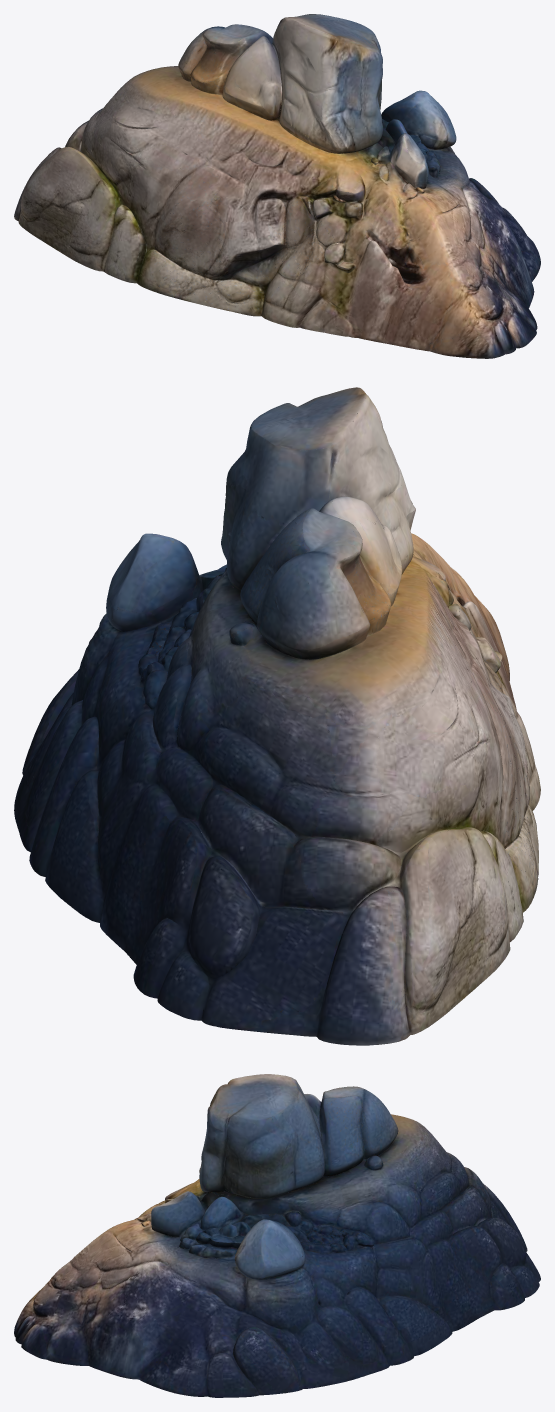
Rendered from mihinthalaya_rock.glb.
The picture shows the model from 3 angles, top to bottom: view 1: azimuth 30°, elevation 25°; view 2: azimuth 150°, elevation 25°; view 3: azimuth 270°, elevation 25°; orthographic projection. The views are drawn at different scales.
Visible parts, largest first — view 1: node_0; view 2: node_0; view 3: node_0.
Boxes of the visible parts, x1,y1,x2,y2 form: node_0: (14, 14, 540, 358); node_0: (14, 387, 540, 1045); node_0: (14, 1074, 540, 1397).
Size of the model in its own units: 0.722 by 0.4749 by 0.9721.
Materials: 1 (1 with a texture image).
